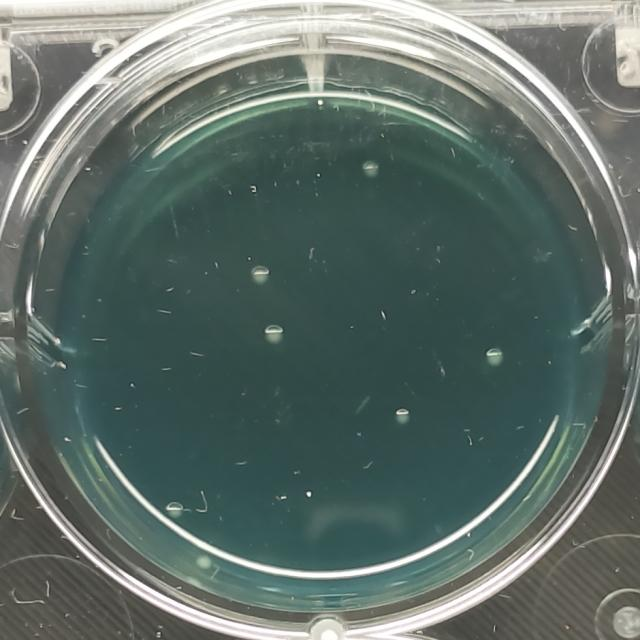vibrio: (255, 317, 290, 351), (359, 156, 389, 187), (247, 261, 276, 289), (390, 402, 416, 432), (482, 344, 508, 371), (166, 497, 190, 524)
